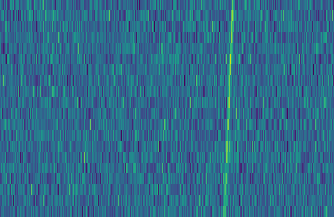signal: (220, 0, 238, 217)
